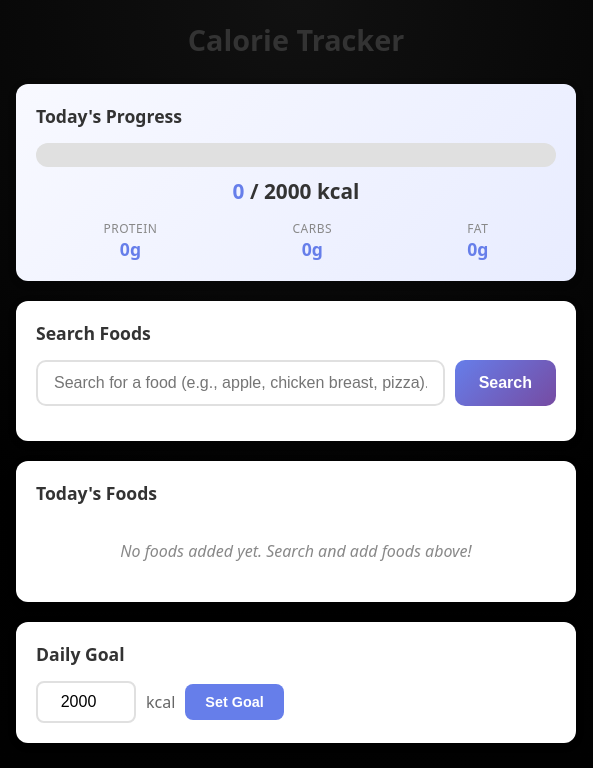
Test case: CaloriesScreen › Search Functionality › displays search results after successful search
Type "apple" into the field with placeholder "Search for a food (e.g., apple, chicken breast, pizza)...". click: (240, 383)
box: [36,360,445,406]
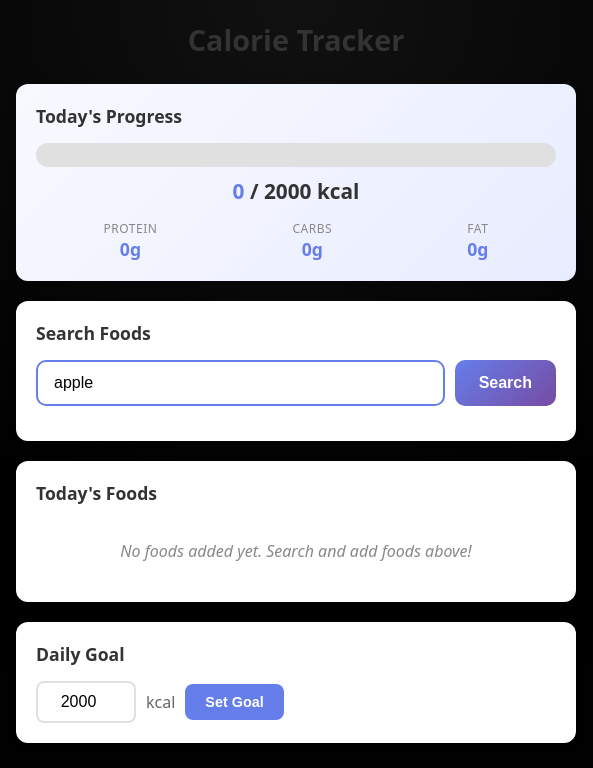
Click the button "Search". click: (505, 383)
box: [455,360,556,406]
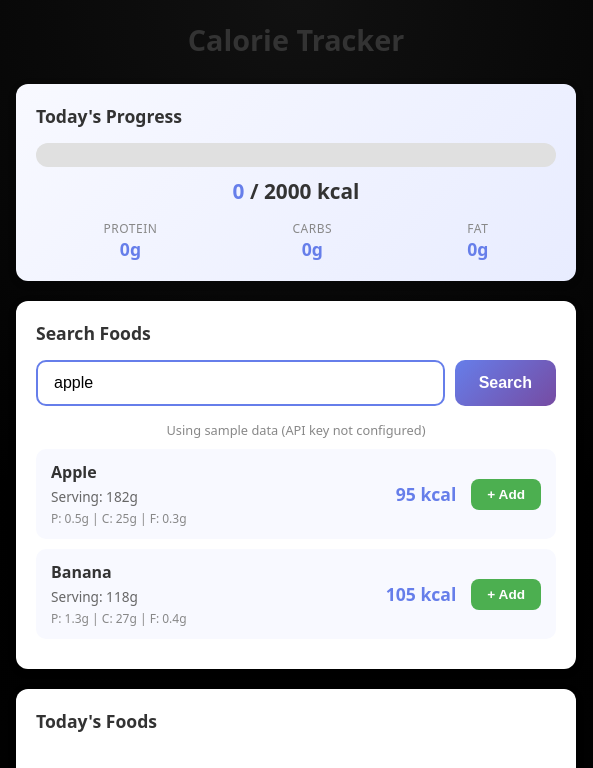
expect the text "apple" is shown: met, box [51,461,97,483]
expect the text "95 kcal" is shown: met, box [386,482,456,506]
